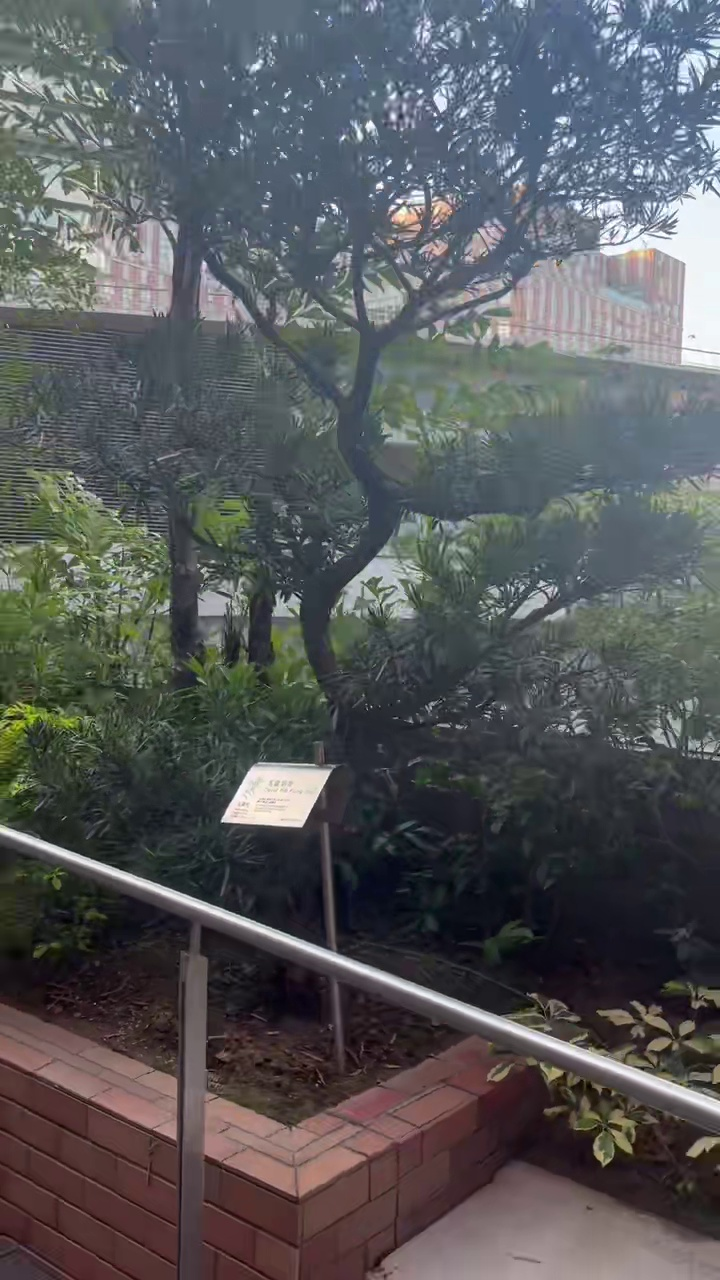Podocarpus macrophyllus: (74, 0, 719, 728)
